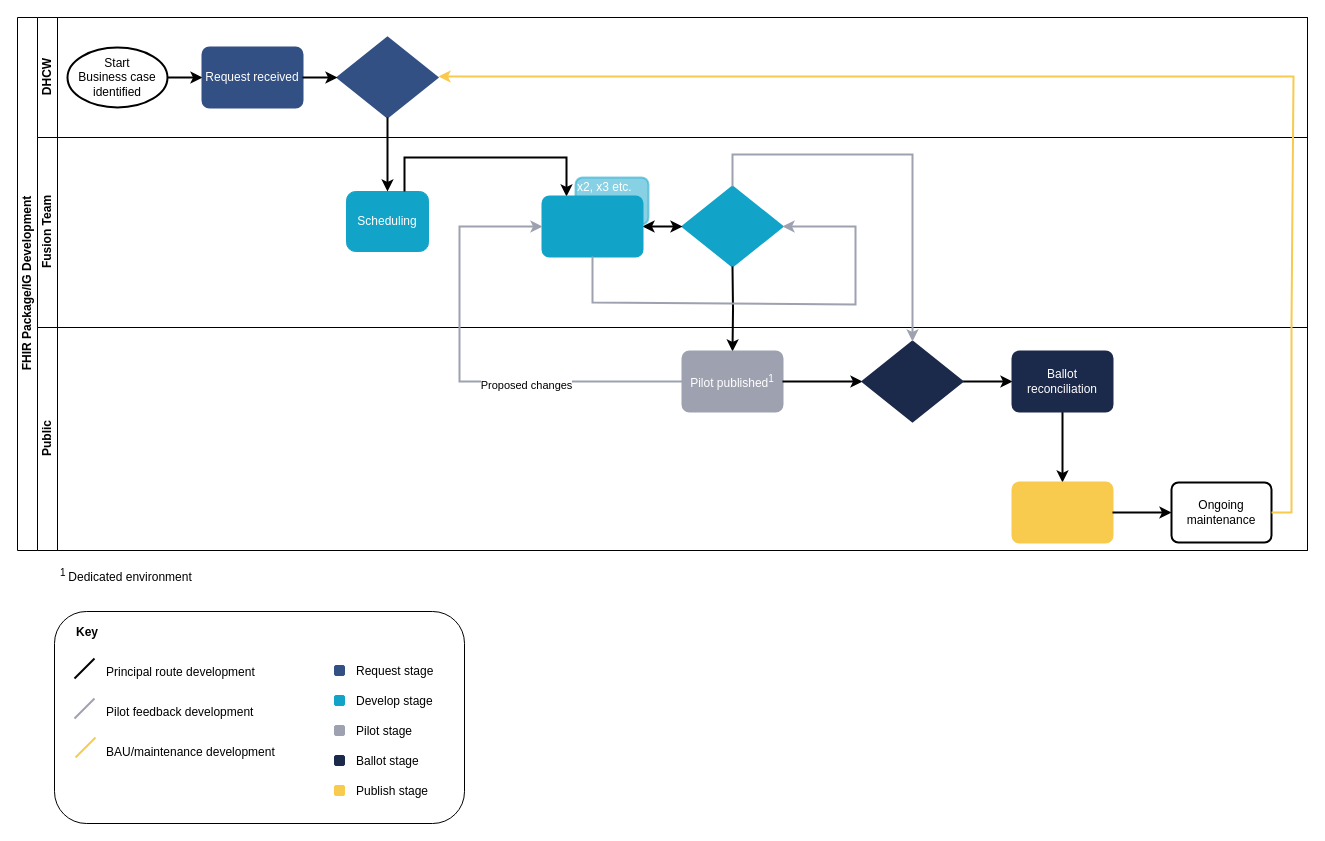
The diagram is 1325 pixels wide and 841 high, and some of its shapes have lost their labels. The shapes that lost their labels are listed below. From the top down, each one's centre as x and y in pixels, then its label:
At pixel 387 77: "Request reviewed".
At pixel 592 226: "FHIR Standards development".
At pixel 732 226: "Iterative review".
At pixel 912 381: "Balloted review".
At pixel 1062 512: "Package/IG published".
